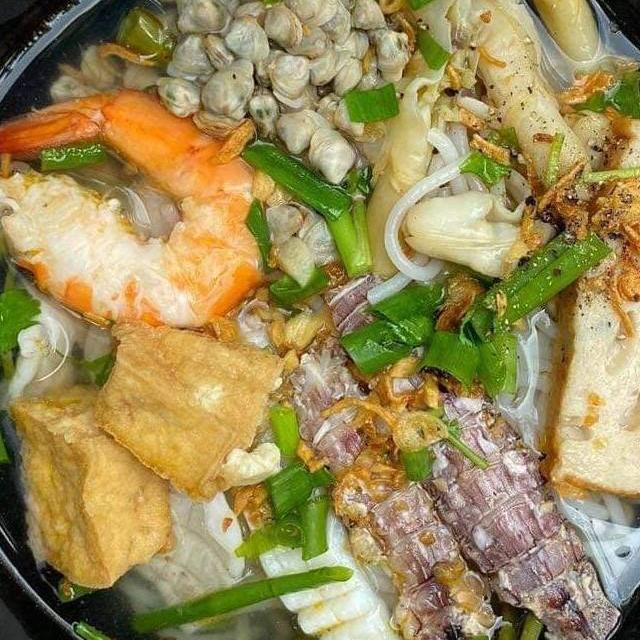bun: (352, 90, 532, 312), (483, 296, 582, 460), (551, 467, 640, 611)
bun hai san: (0, 0, 640, 640)
dau hu: (89, 306, 298, 506), (0, 373, 183, 597)
muc: (221, 412, 418, 640)
tom: (0, 82, 296, 344)
tom tit: (316, 262, 633, 640), (255, 288, 512, 640)
